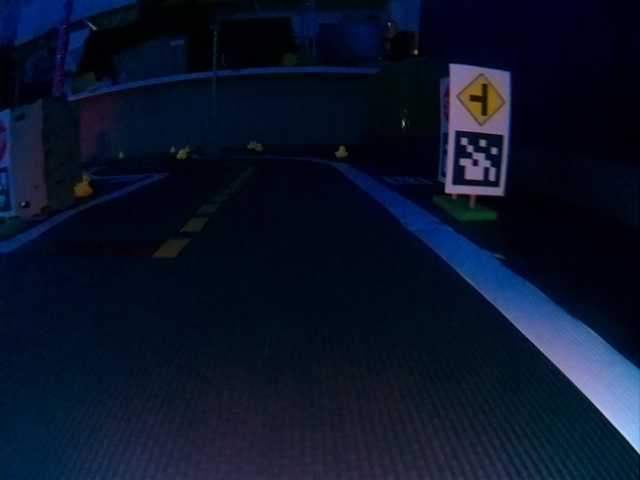Duckie: (73, 181, 92, 198), (335, 145, 348, 158), (254, 143, 264, 151), (175, 152, 185, 159)
Intersection sign: (456, 71, 507, 126)
QR code: (451, 131, 506, 186)
